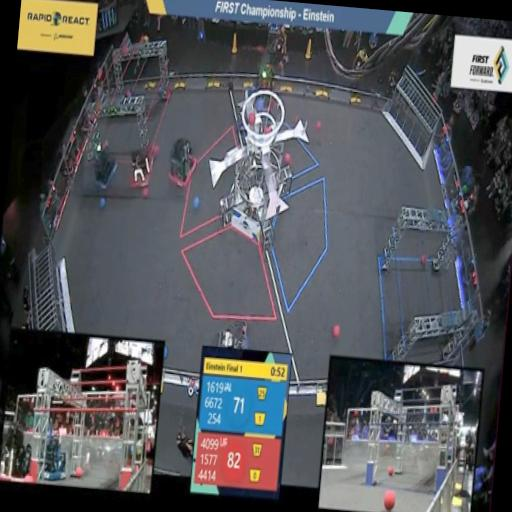robot: (164, 131, 198, 192), (89, 132, 120, 192), (126, 138, 158, 194), (212, 312, 252, 354), (234, 84, 266, 136), (250, 58, 278, 108)
